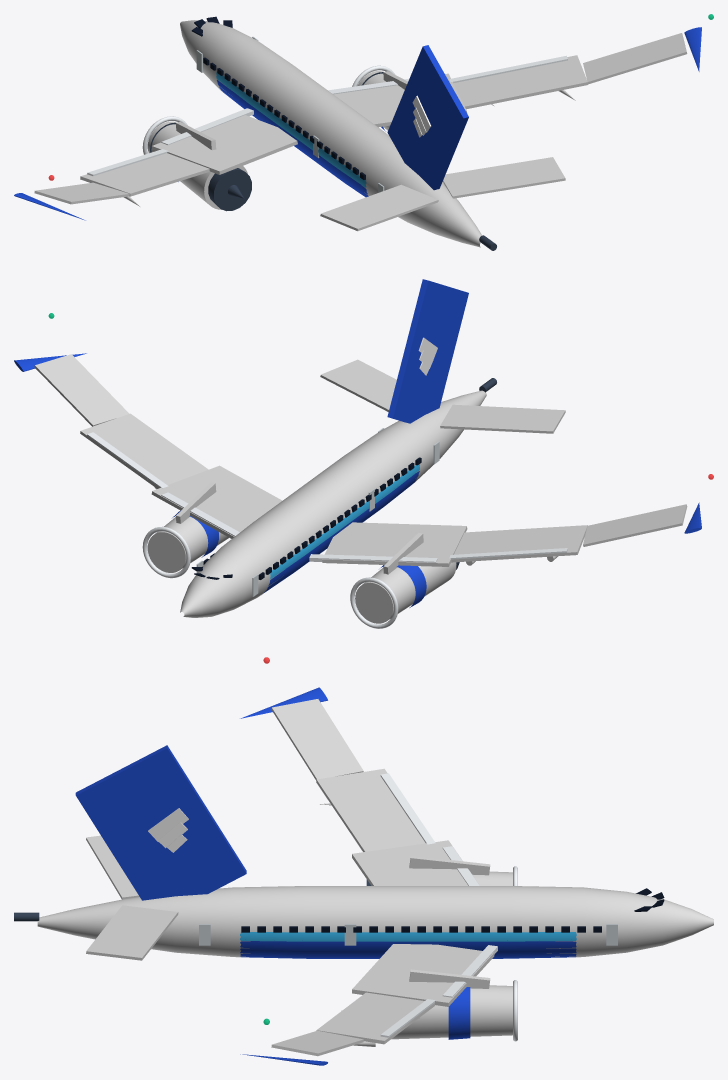
The model's file is airplane.glb.
The picture shows the model from 3 angles, top to bottom: view 1: azimuth 30°, elevation 25°; view 2: azimuth 150°, elevation 25°; view 3: azimuth 270°, elevation 25°; orthographic projection. The views are drawn at different scales.
Visible parts, largest first — view 1: Boeing787CinematicAirliner; view 2: Boeing787CinematicAirliner; view 3: Boeing787CinematicAirliner.
Boxes of the visible parts, <box> form: Boeing787CinematicAirliner: <box>14,14,713,250</box>; Boeing787CinematicAirliner: <box>14,279,713,628</box>; Boeing787CinematicAirliner: <box>14,657,713,1065</box>.
Bounding box in the file's own units: 12.27 × 3.57 × 9.62.
